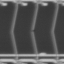dust: (31, 29, 36, 32)
